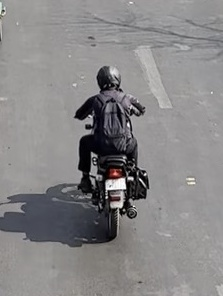BikeWithRider: (73, 63, 151, 240)
Helmet: (95, 65, 125, 94)
